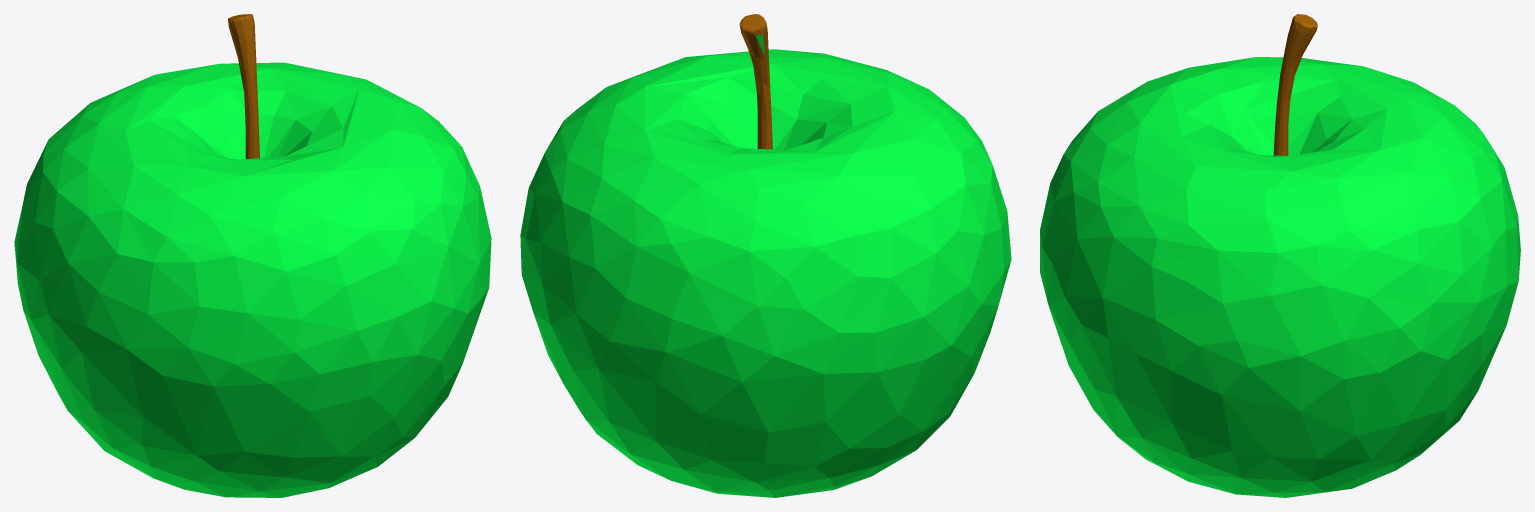
File: Apple.fbx
3 renders of one model, left to right at view 1: azimuth 30°, elevation 25°; view 2: azimuth 150°, elevation 25°; view 3: azimuth 270°, elevation 25°, orthographic. The views are drawn at different scales.
Visible parts, largest first — view 1: Apple; view 2: Apple; view 3: Apple.
Part boxes in pixels (<box>): Apple: <box>14,14,491,497</box>; Apple: <box>520,14,1011,497</box>; Apple: <box>1040,14,1520,497</box>.
Size of the model in its own units: 0.6591 by 0.6647 by 0.6567.
